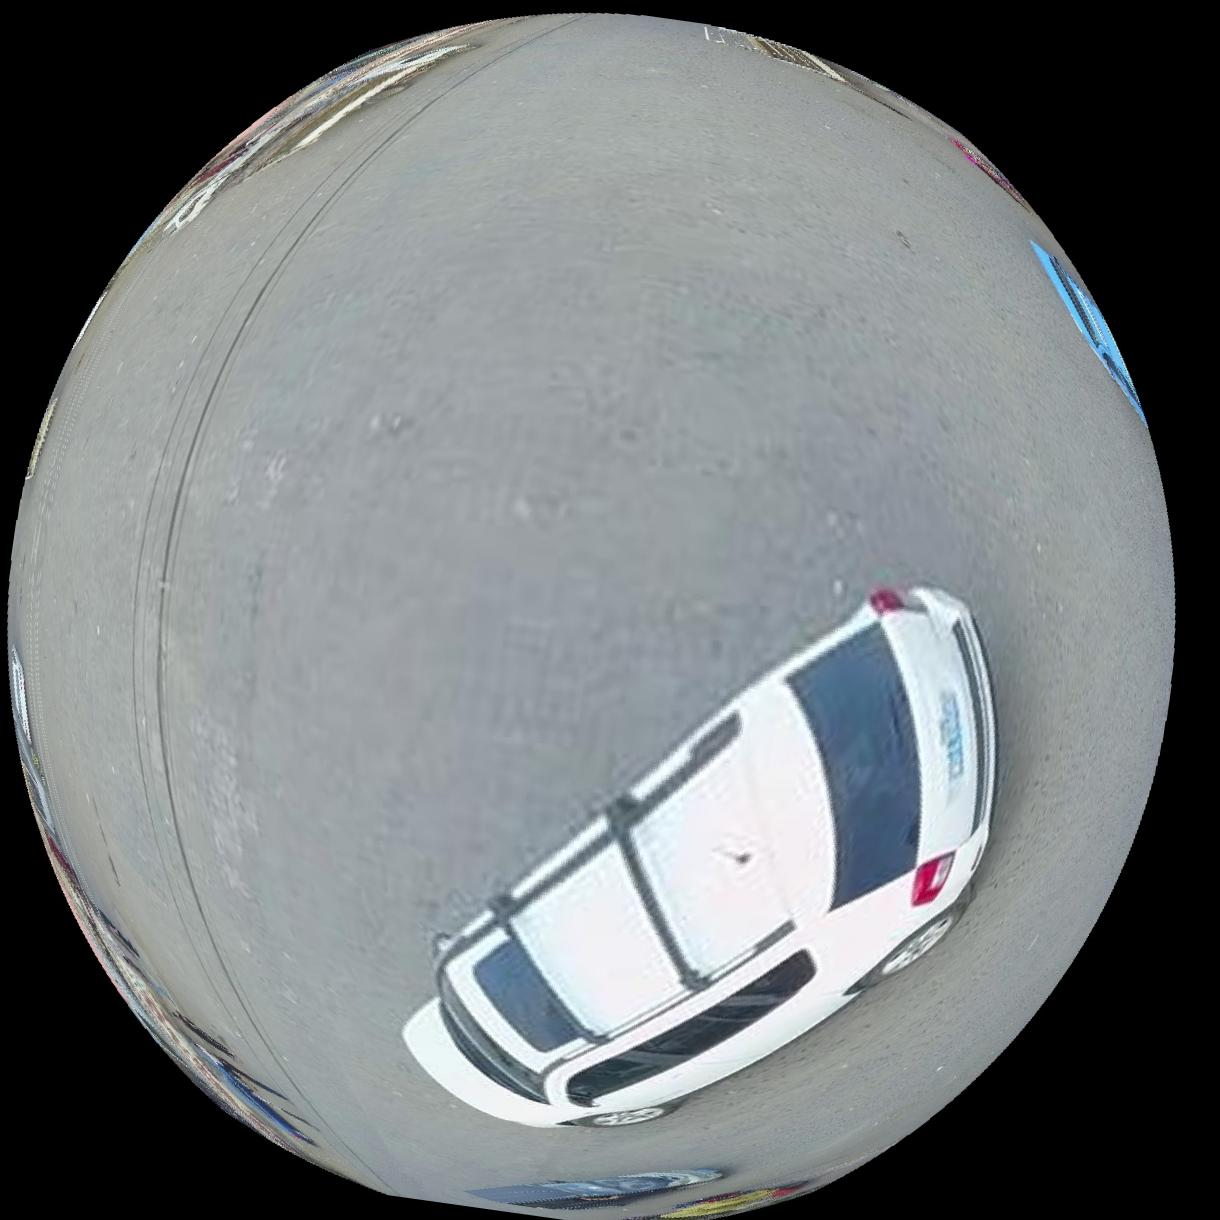cars: (402, 584, 998, 1128), (1032, 237, 1147, 418), (468, 1169, 723, 1210)
